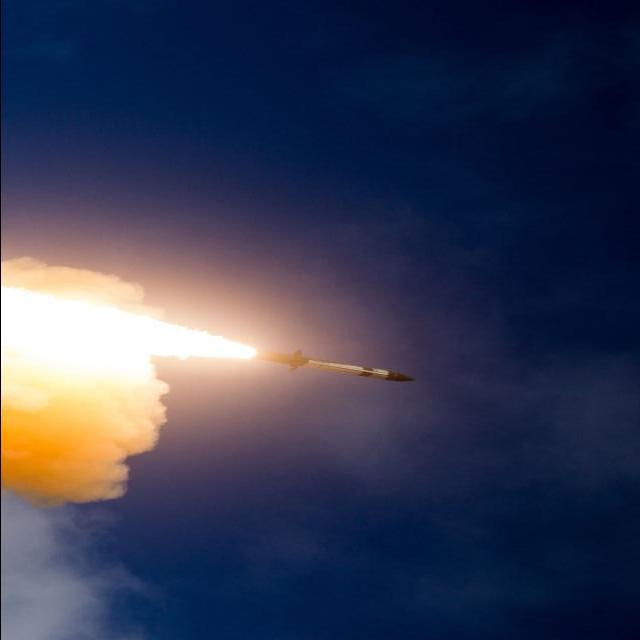Missile: (247, 340, 431, 388)
